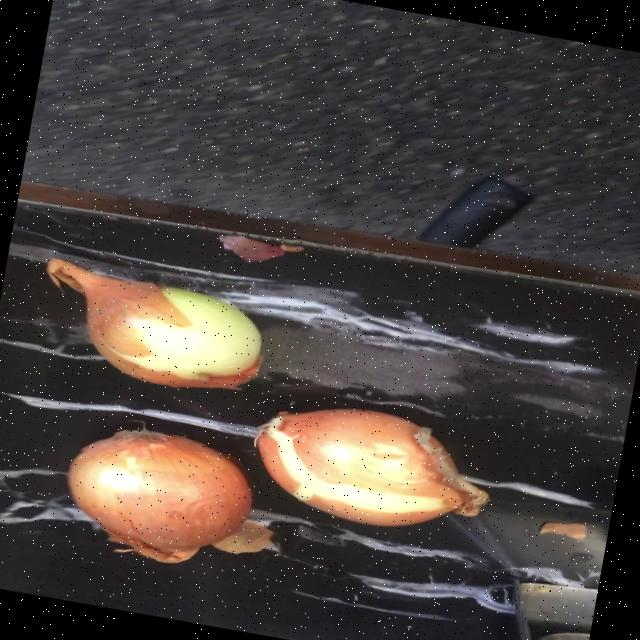Onion: (46, 257, 260, 387), (255, 408, 488, 525), (67, 429, 251, 562)
